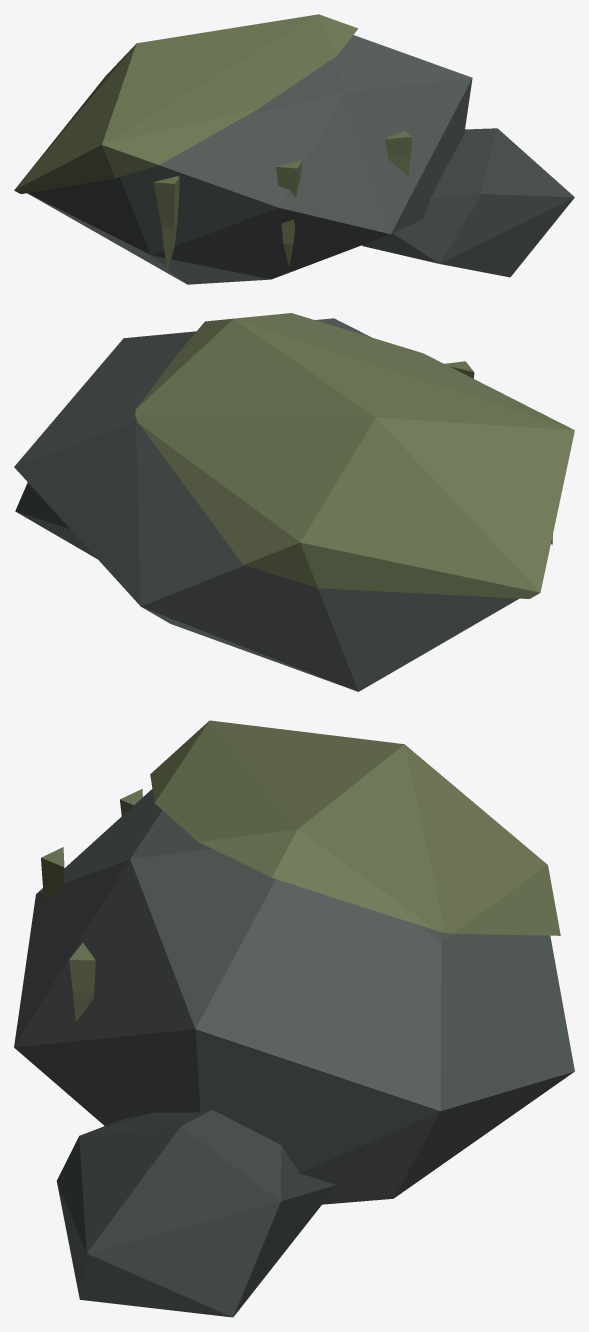
The model's file is Swamp_Rock.fbx.
3 renders of one model, top to bottom at view 1: azimuth 30°, elevation 25°; view 2: azimuth 150°, elevation 25°; view 3: azimuth 270°, elevation 25°, orthographic. The views are drawn at different scales.
Visible parts, largest first — view 1: Rock, Moss, Rock2; view 2: Moss, Rock, Rock2; view 3: Rock, Moss, Rock2.
Part boxes in pixels (<box>): Rock: <box>27,35,472,284</box>; Moss: <box>14,14,411,271</box>; Rock2: <box>362,128,574,277</box>; Moss: <box>135,313,574,598</box>; Rock: <box>14,318,518,691</box>; Rock2: <box>15,482,96,558</box>; Rock: <box>14,789,574,1204</box>; Moss: <box>41,720,560,1022</box>; Rock2: <box>56,1110,336,1317</box>.
Bounding box in the file's own units: 4.84 × 2.38 × 3.2.
